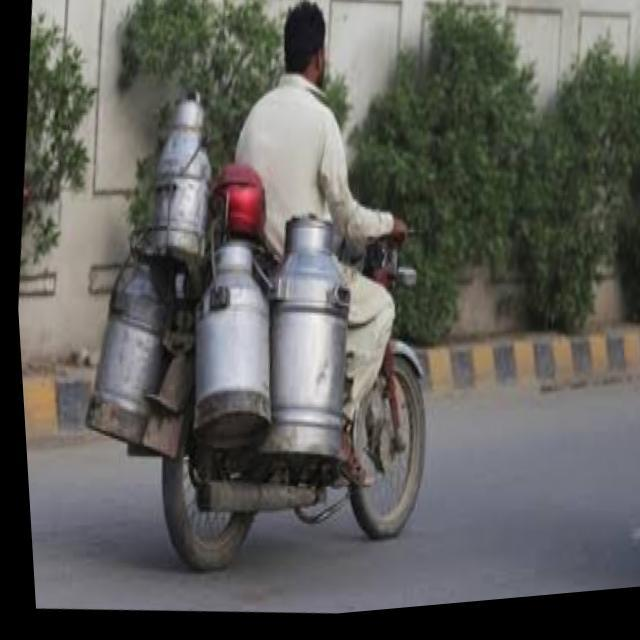Nonhelmet: (276, 0, 332, 96)
